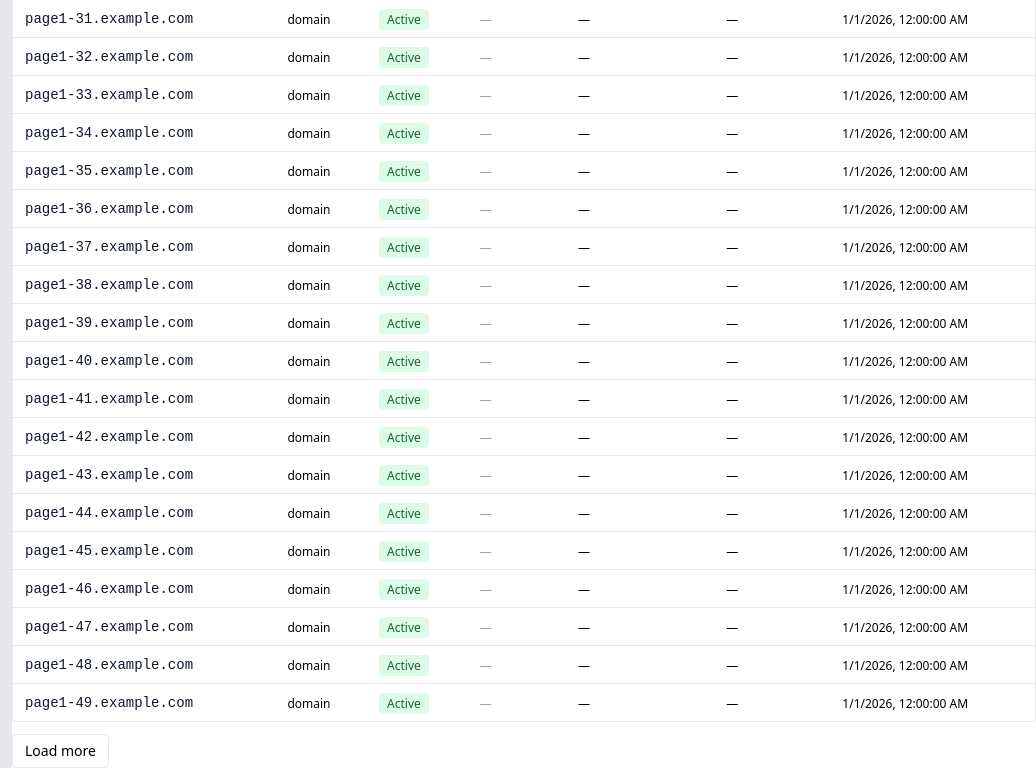
Test: AssetsPage › shows a 'Load more' button only when a full page was returned, and fetches the next keyset page
(page scrolled)
Click the button "Load more": (60, 751) [12, 734, 109, 767]
(page scrolled)
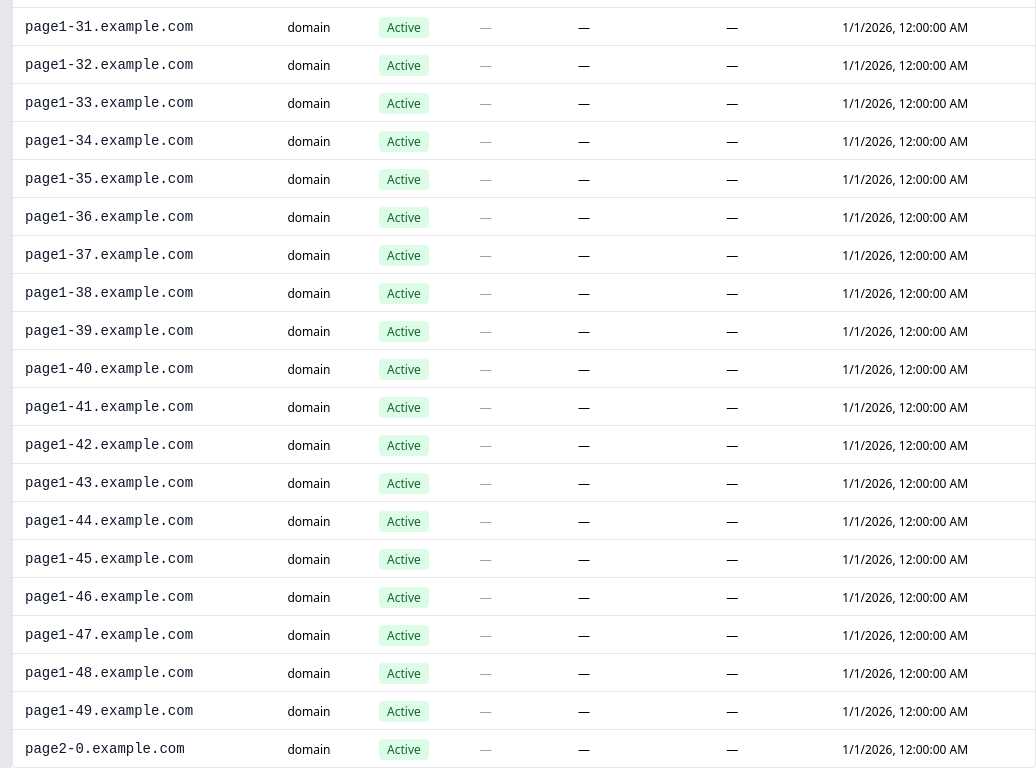
Expected: the link "page2-0.example.com" is shown, [25, 741, 185, 757]
Expected: the button "Load more" is gone
